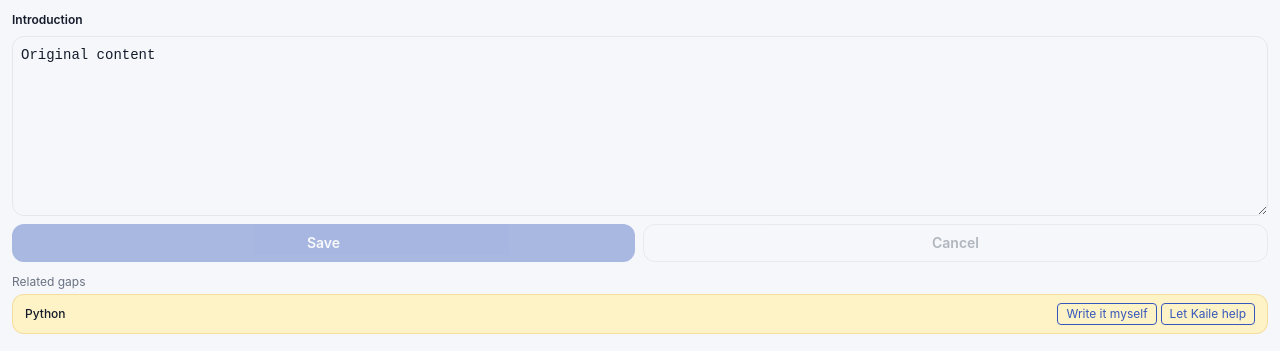
Test: SectionEditor › dismissing a gap removes it from the list
Click the button with test id "write-myself-btn".
click(1107, 314)  # box [1058,303,1157,325]
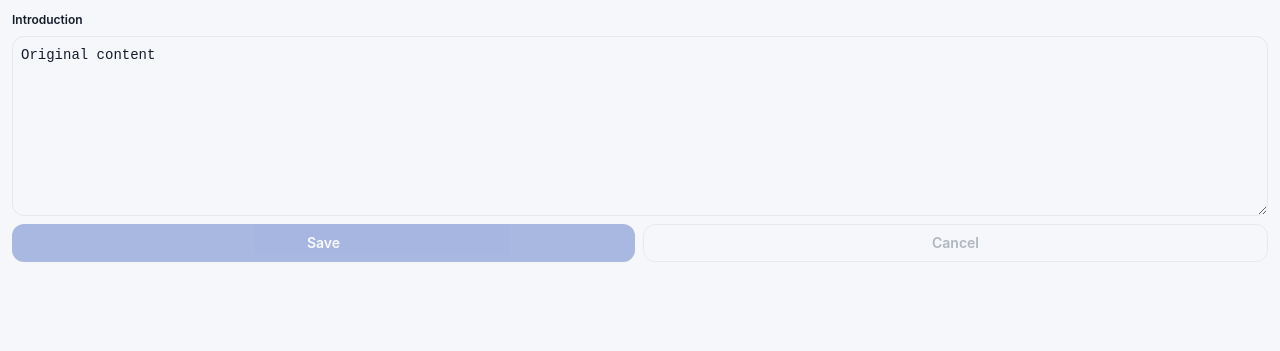
Result: the text "Python" is gone
